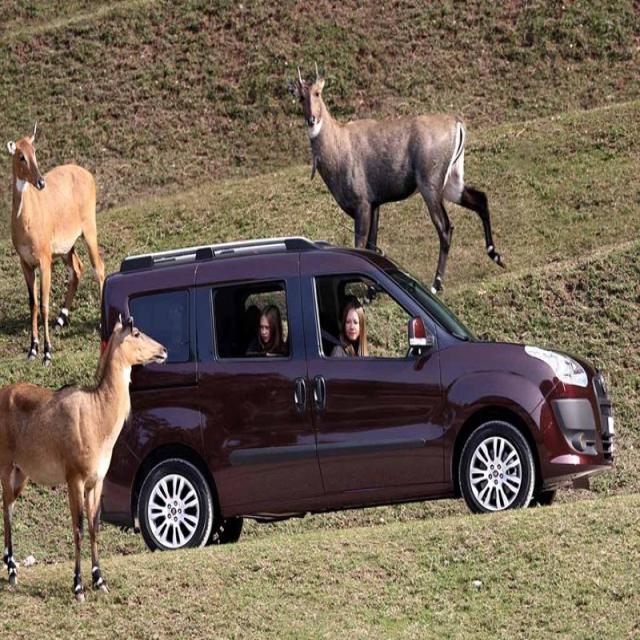door: (197, 269, 329, 501)
front_bumper: (526, 382, 616, 488)
front_right_side_door: (297, 247, 449, 498)
front_right_side_light: (520, 342, 589, 387)
front_right_side_mirror: (408, 313, 427, 351)
wheel: (138, 458, 212, 558), (459, 420, 534, 513)
